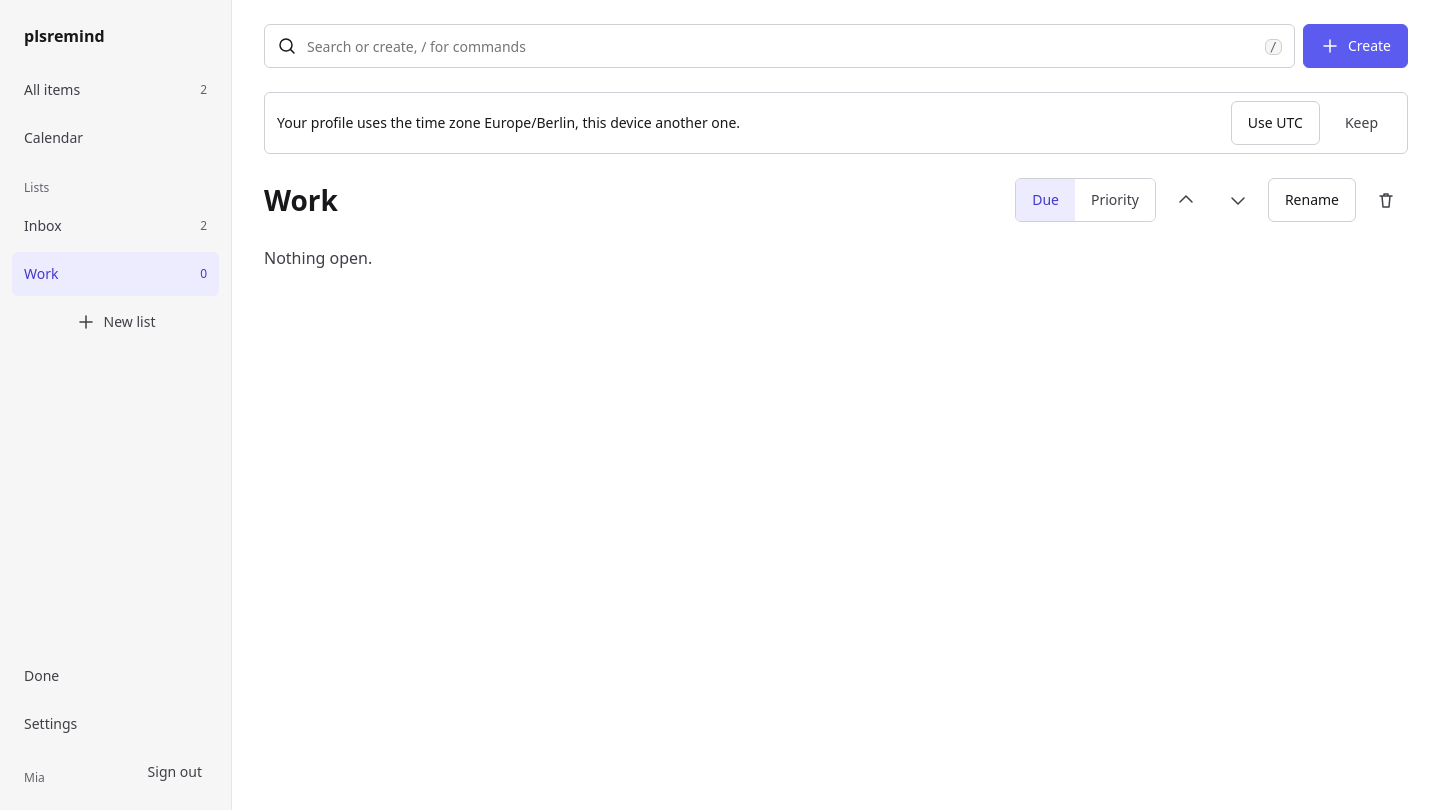
Create with an empty bar asks for the details
Step 1. Click the button "Create" → (1355, 46), box [1303,24,1408,68]
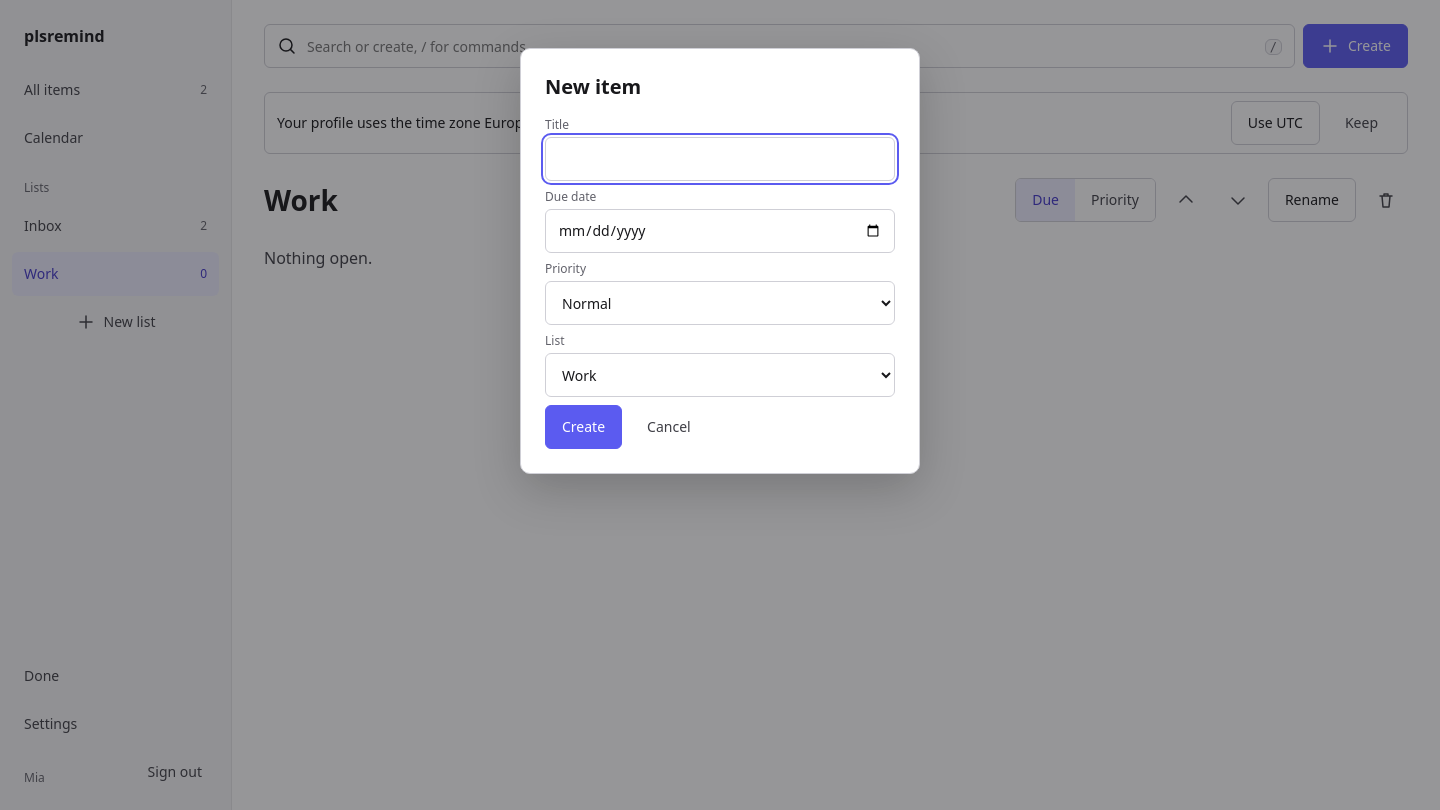
Result: the dropdown labelled "List" shows "Work" at [545,353,895,397]
Step 2. Type "Plan the trip" into the field labelled "Title" → (720, 159), box [545,137,895,181]
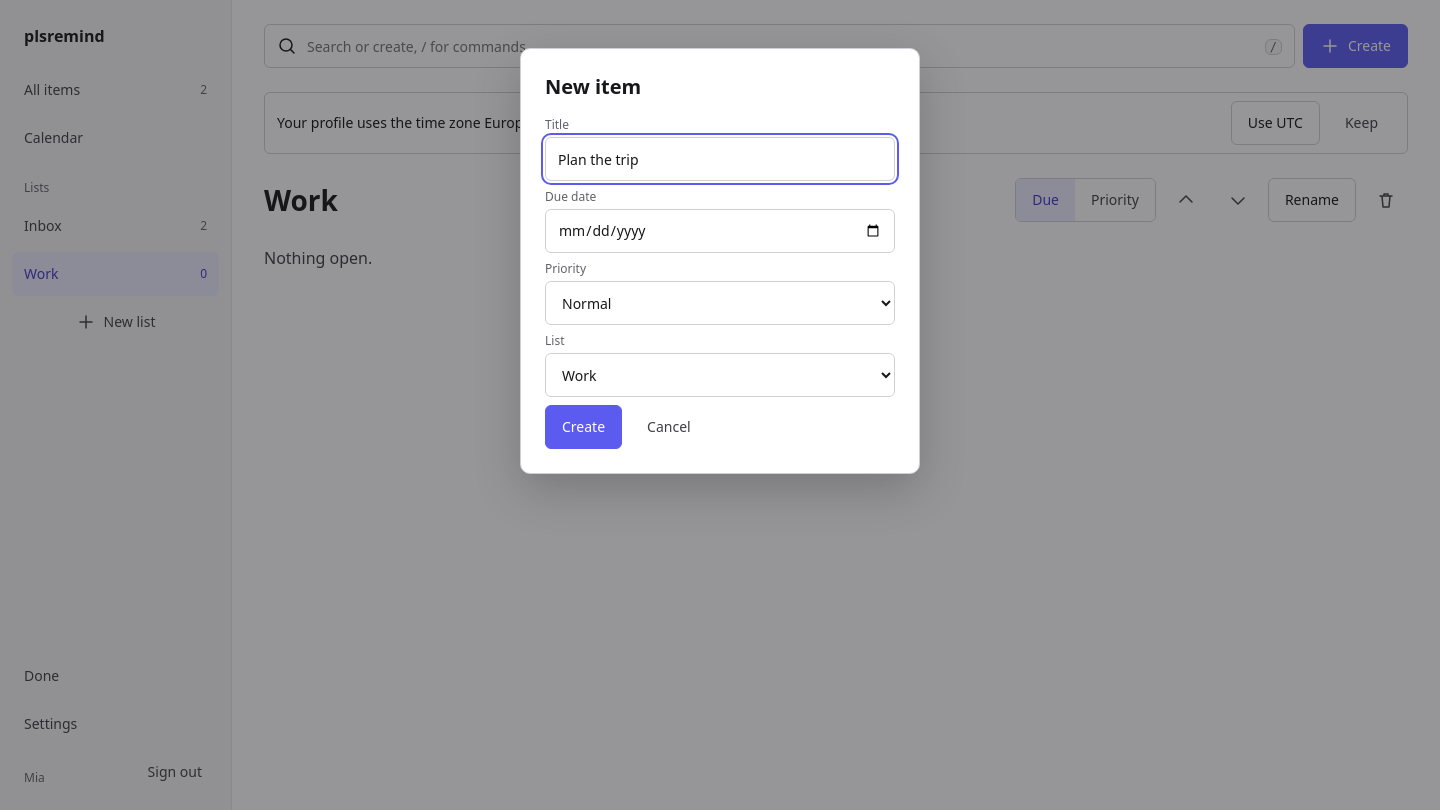
Step 3. Select "High" in the dropdown labelled "Priority" → (720, 303), box [545,281,895,325]
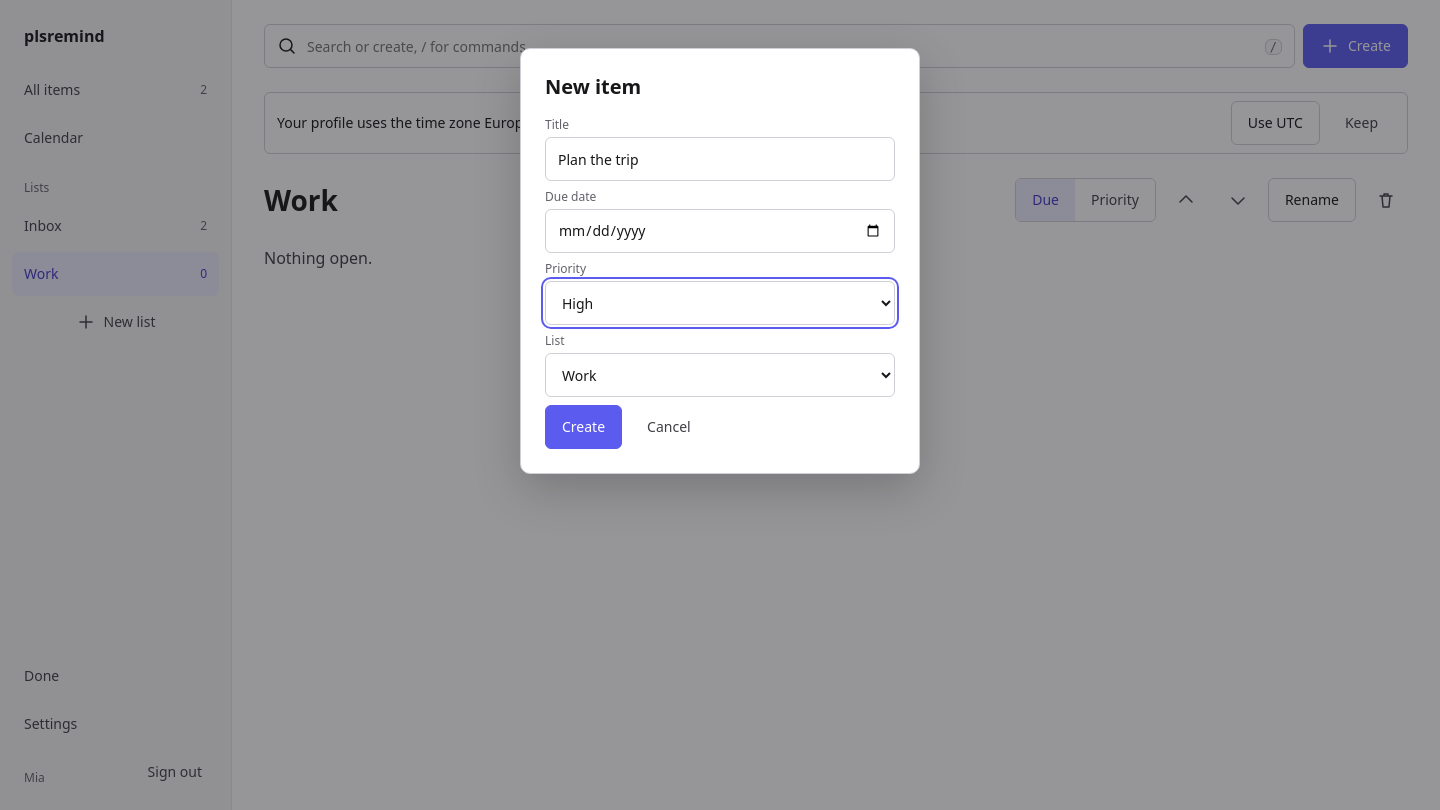
Step 4. Select "Inbox" in the dropdown labelled "List" → (720, 375), box [545,353,895,397]
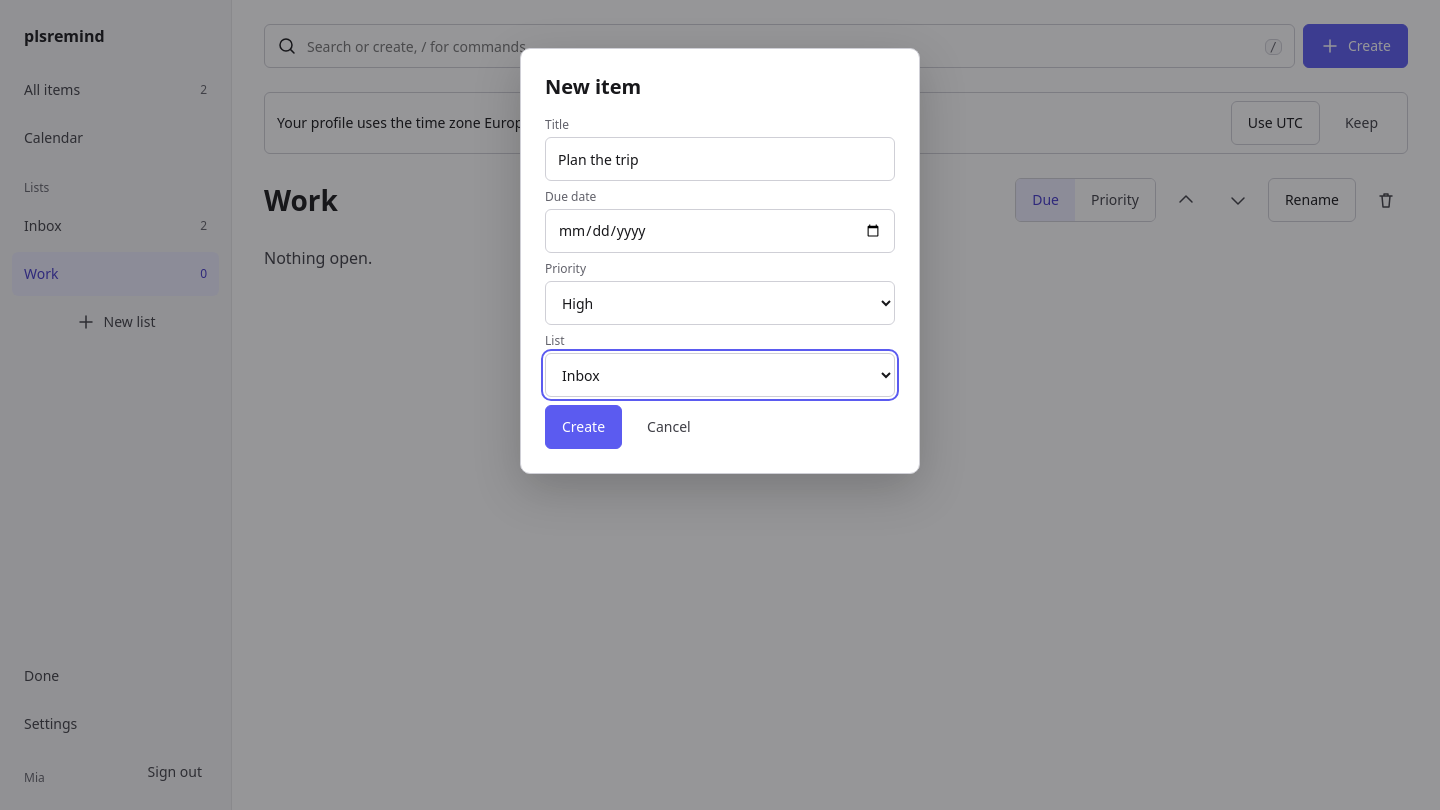
Step 5. Click the button "Create" below "Due date" → (584, 427), box [545,405,622,449]
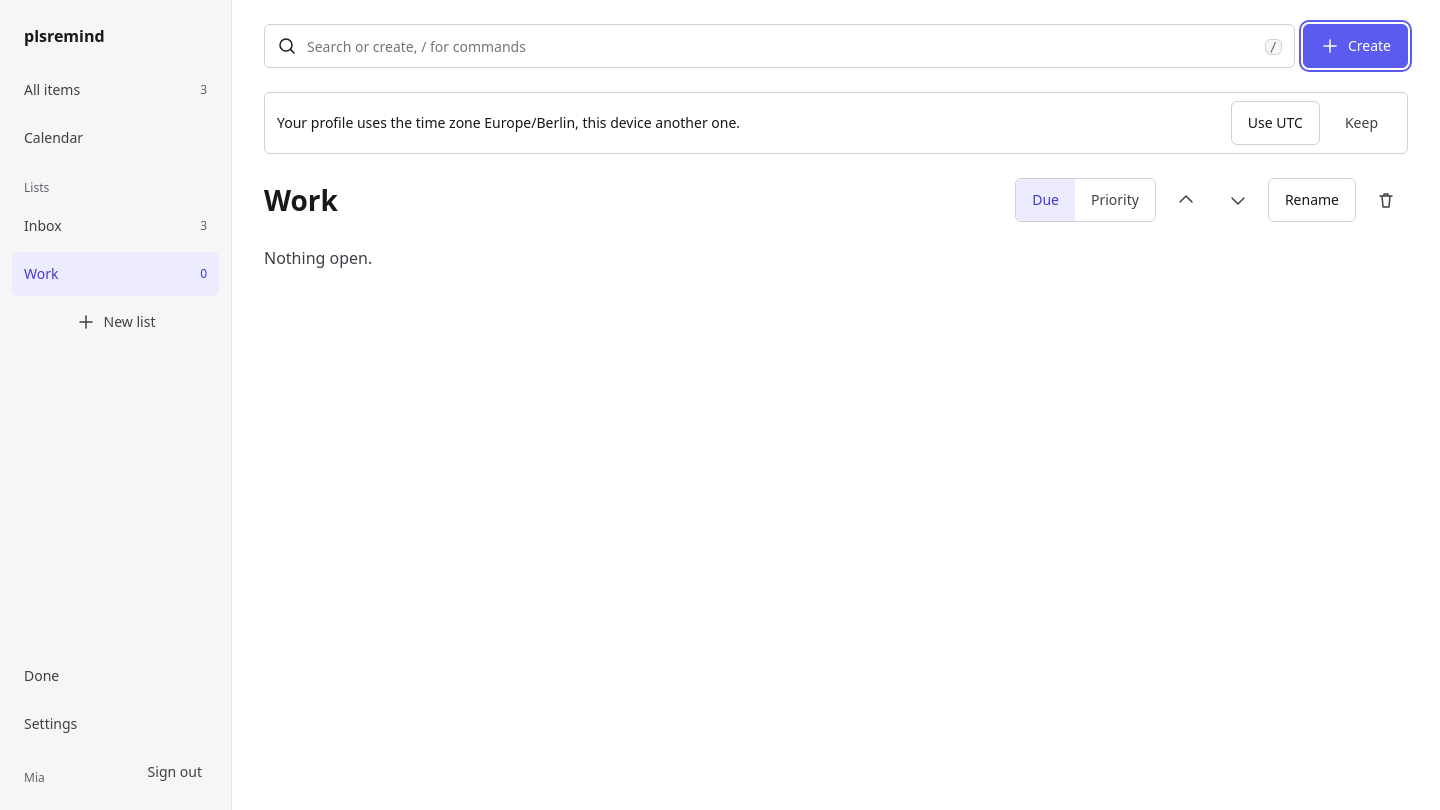
Result: the dialog is gone
